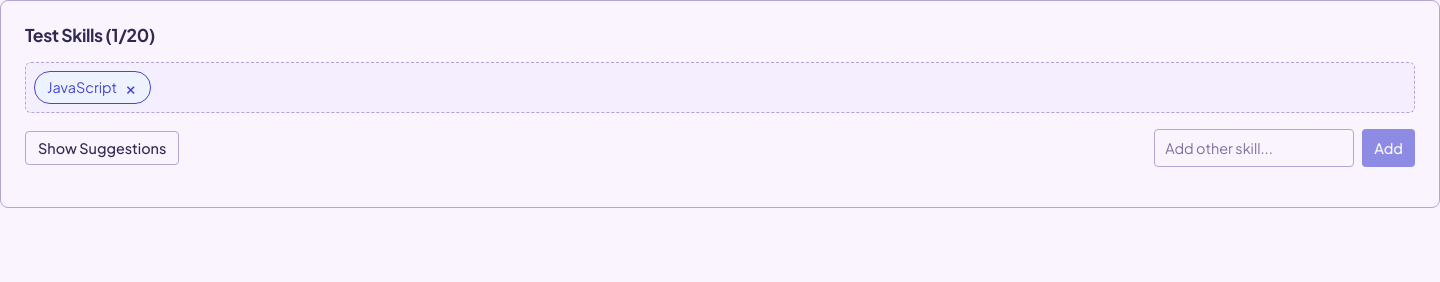
it: SkillSelector Component › prevents adding duplicate custom skill
The width and height of the screenshot is (1440, 282).
In the field with placeholder "Add other skill...": (1254, 148) [1154,129,1354,167], type "javascript"
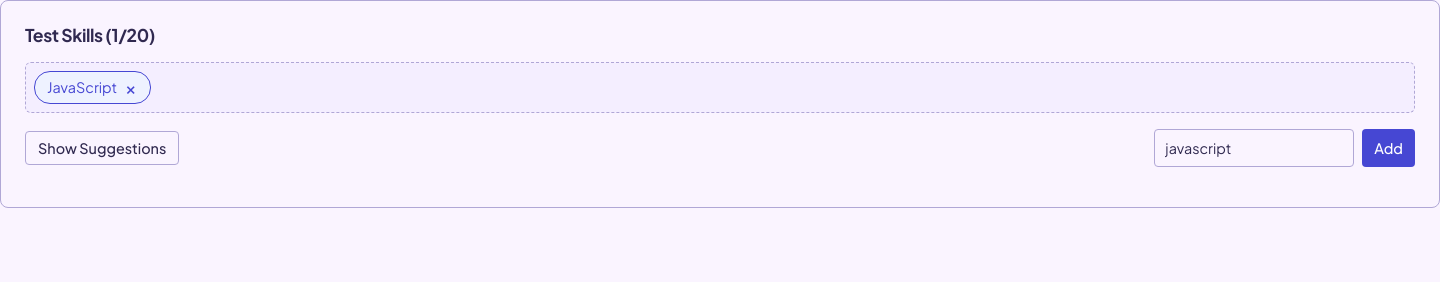
Click the button "Add": (1389, 148) [1362,129,1415,167]
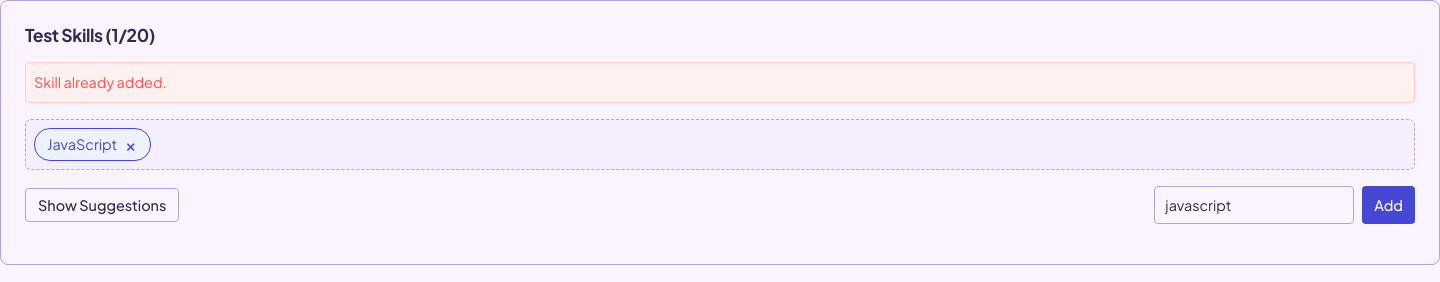
Now the text "Skill already added." is shown, box [25,62,1415,103]
